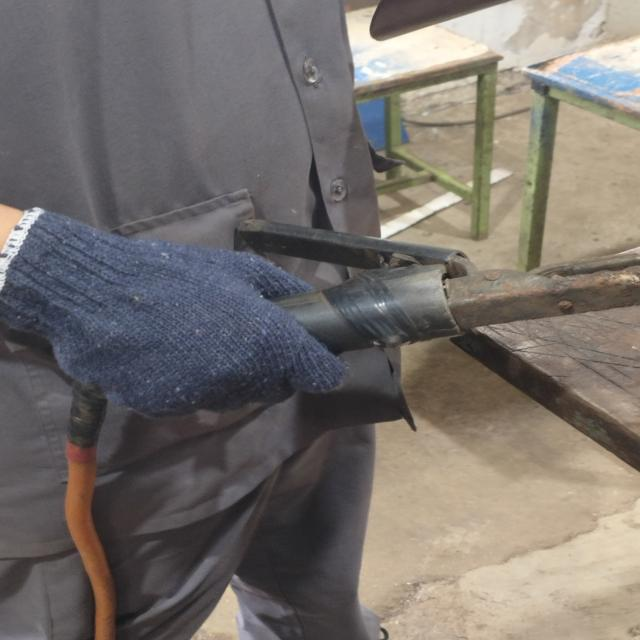Gloves-Detection: (19, 206, 354, 409)
